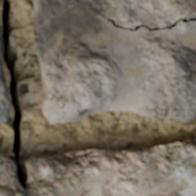brick: (34, 0, 195, 122), (0, 42, 9, 122)
broken_brick: (0, 138, 195, 195)
crack: (0, 0, 31, 194)
